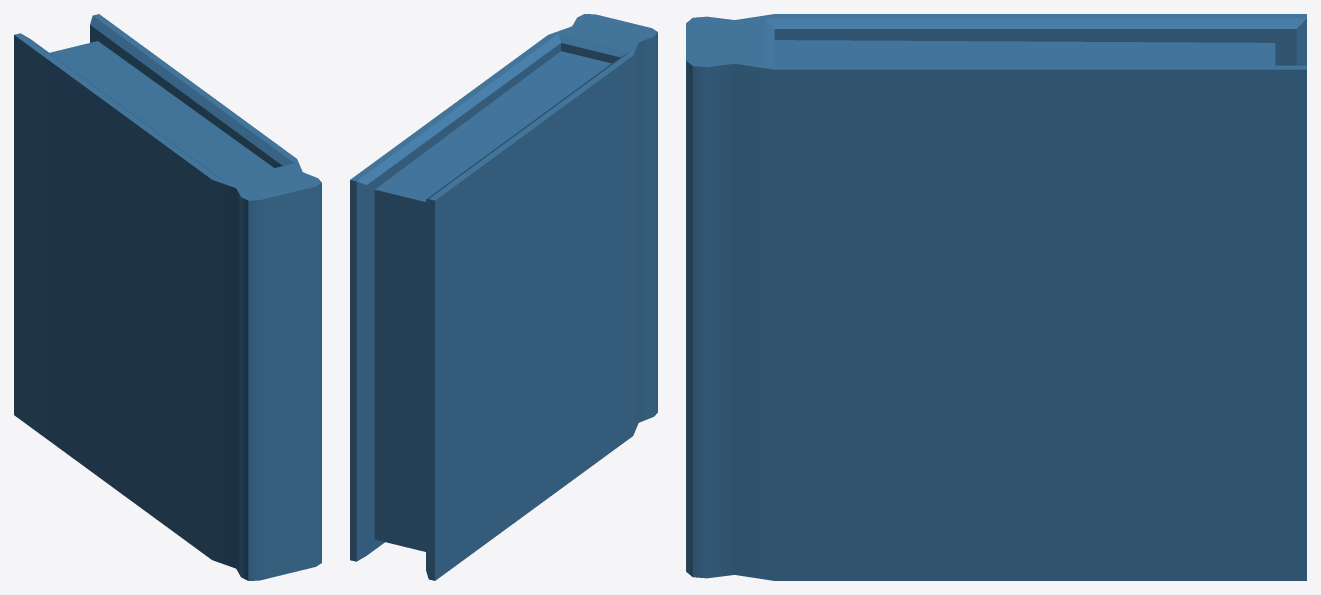
File: book_3 1.fbx
3 renders of one model, left to right at view 1: azimuth 30°, elevation 25°; view 2: azimuth 150°, elevation 25°; view 3: azimuth 270°, elevation 25°, orthographic. The views are drawn at different scales.
Visible parts, largest first — view 1: room:pCube99; view 2: room:pCube99; view 3: room:pCube99.
Boxes of the visible parts, bbox=[...] form: room:pCube99: bbox=[14, 14, 321, 580]; room:pCube99: bbox=[350, 14, 657, 580]; room:pCube99: bbox=[686, 14, 1306, 580].
Size of the model in its own units: 40.96 by 175 by 192.
